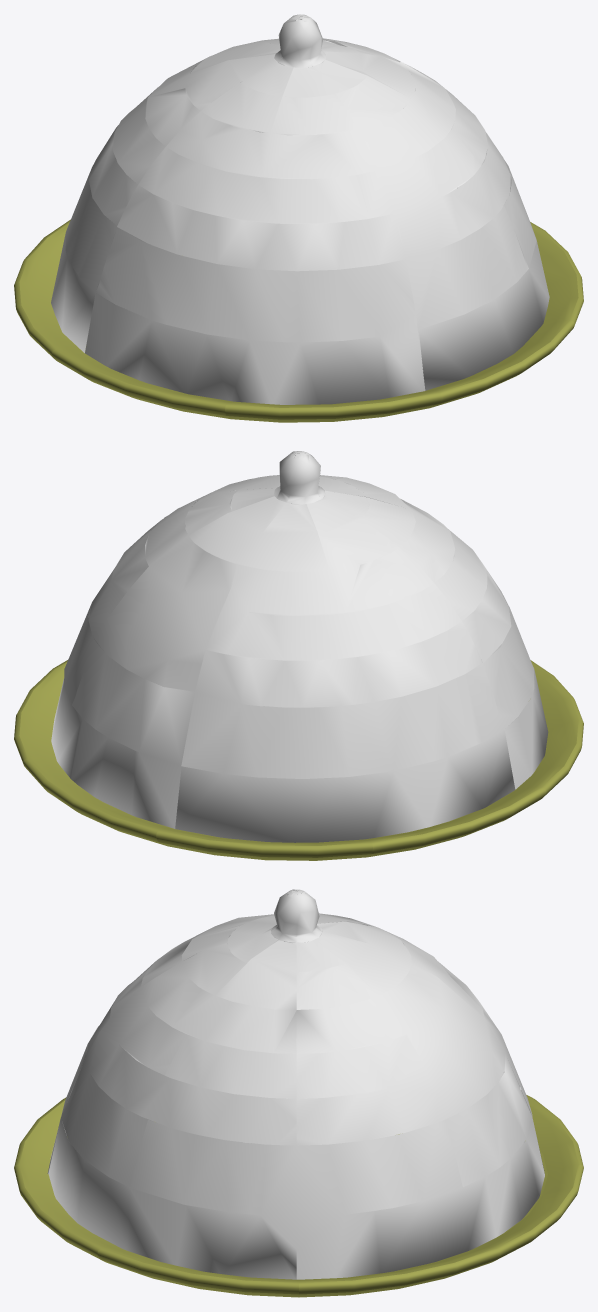
Rendered from Glass_dome_LOD0.fbx.
3 renders of one model, top to bottom at view 1: azimuth 30°, elevation 25°; view 2: azimuth 150°, elevation 25°; view 3: azimuth 270°, elevation 25°, orthographic.
Visible parts, largest first — view 1: Glass_Material_001_0; view 2: Glass_Material_001_0; view 3: Glass_Material_001_0.
Part boxes in pixels (x1,y1,x2,y2): Glass_Material_001_0: (14, 14, 583, 422); Glass_Material_001_0: (14, 451, 583, 860); Glass_Material_001_0: (14, 889, 583, 1297).
Bounding box in the file's own units: 189 × 111 × 189.
